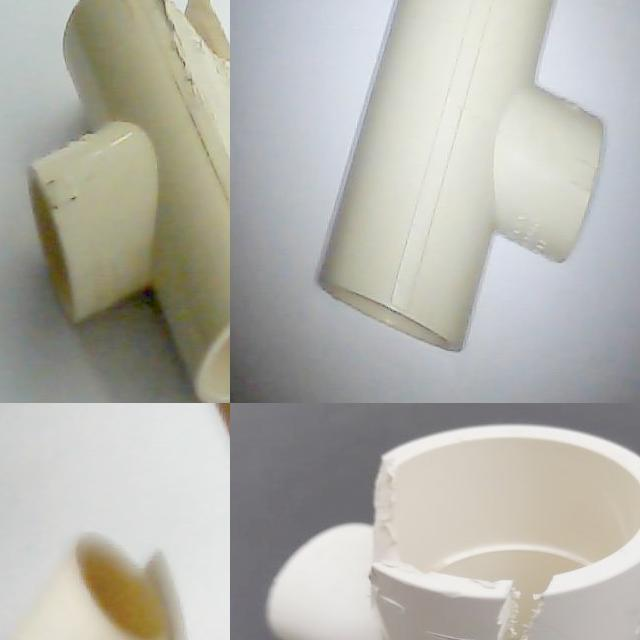Defective: (345, 438, 435, 626), (466, 558, 587, 640), (139, 0, 230, 73)
T Joint: (316, 0, 606, 346), (29, 0, 230, 403), (12, 535, 170, 640)
